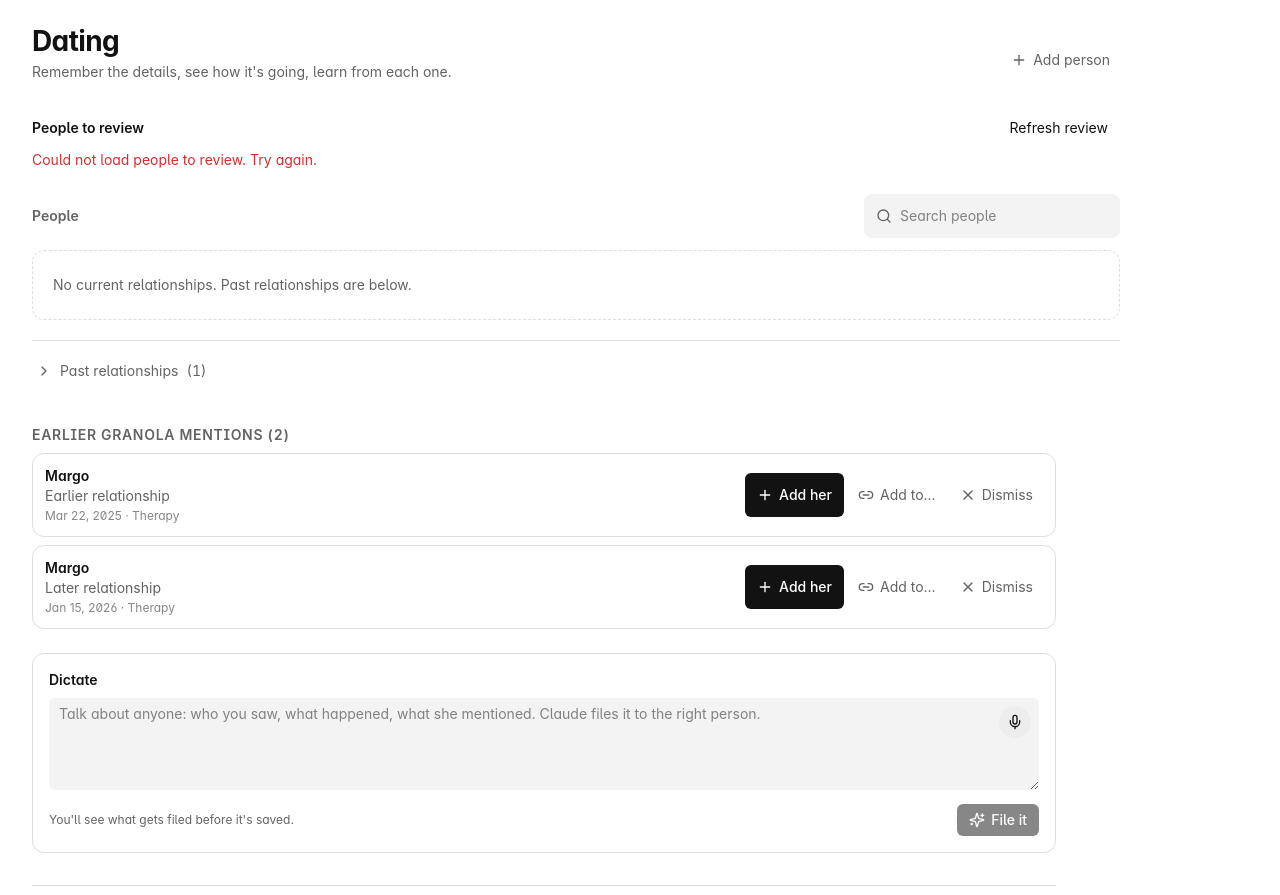
Test: Granola suggestion review › keeps server errors beside the dismiss controls and releases them for retry
Click the button "Dismiss" in the row of "Earlier relationship" at (996, 495), box 950,473 -> 1043,517
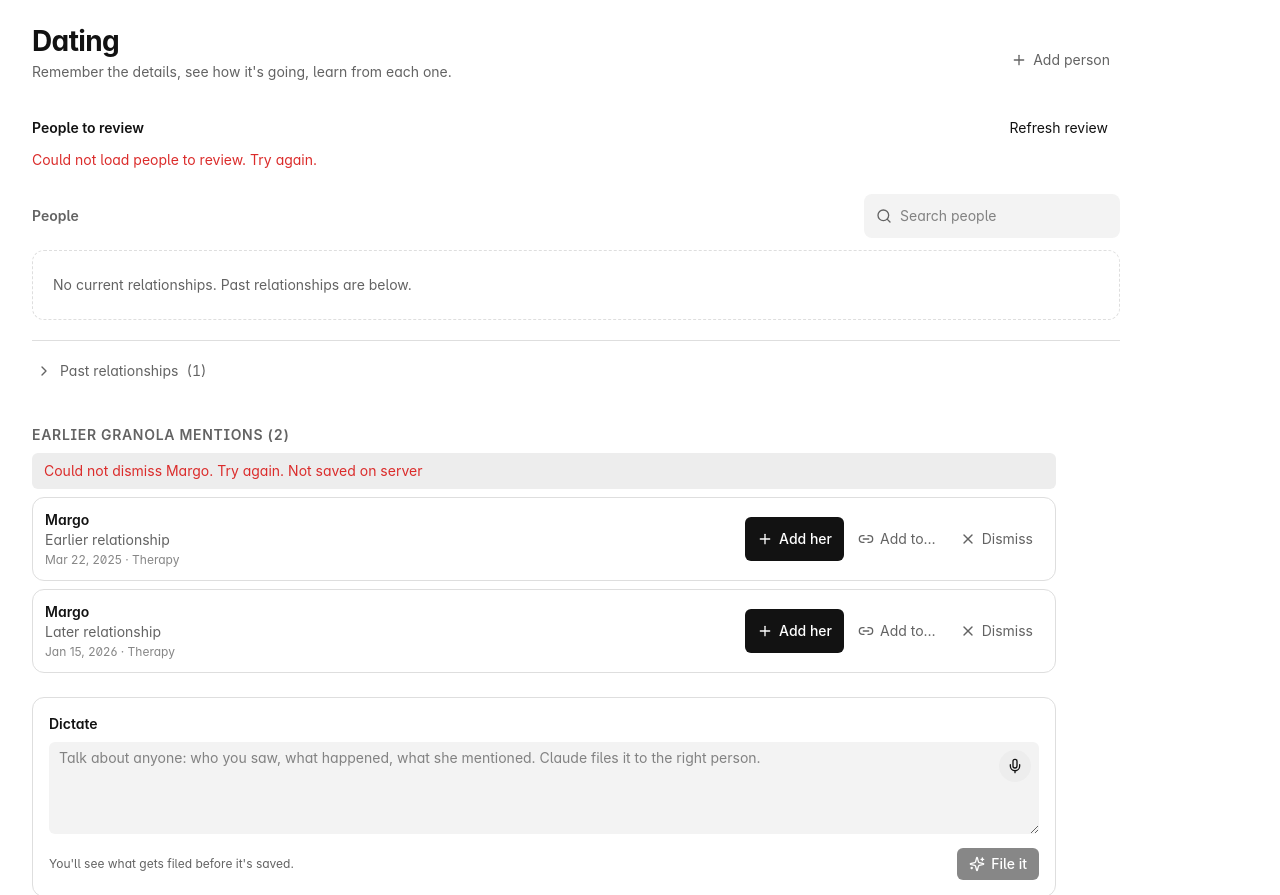
Expected: the button "Add her" in the row of "Earlier relationship" is enabled, 745,517 -> 844,561
Expected: the message "Could not dismiss Margo. Try again. Not saved on server" is shown, 32,453 -> 1056,489
